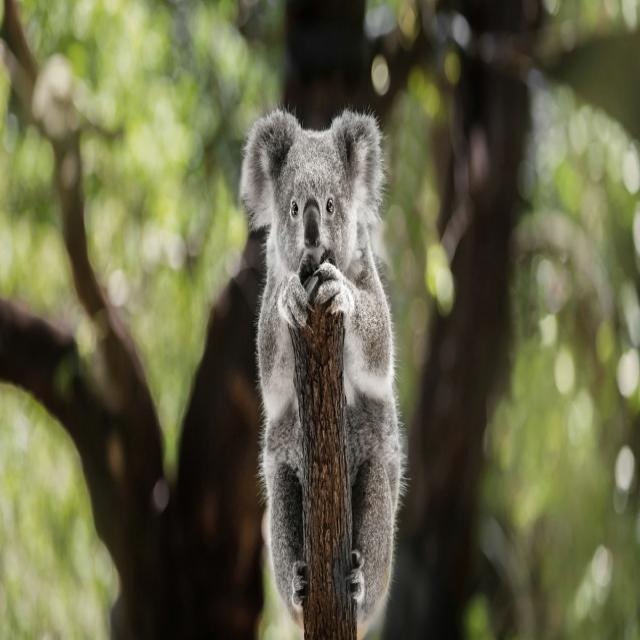koala: (241, 109, 405, 638)
